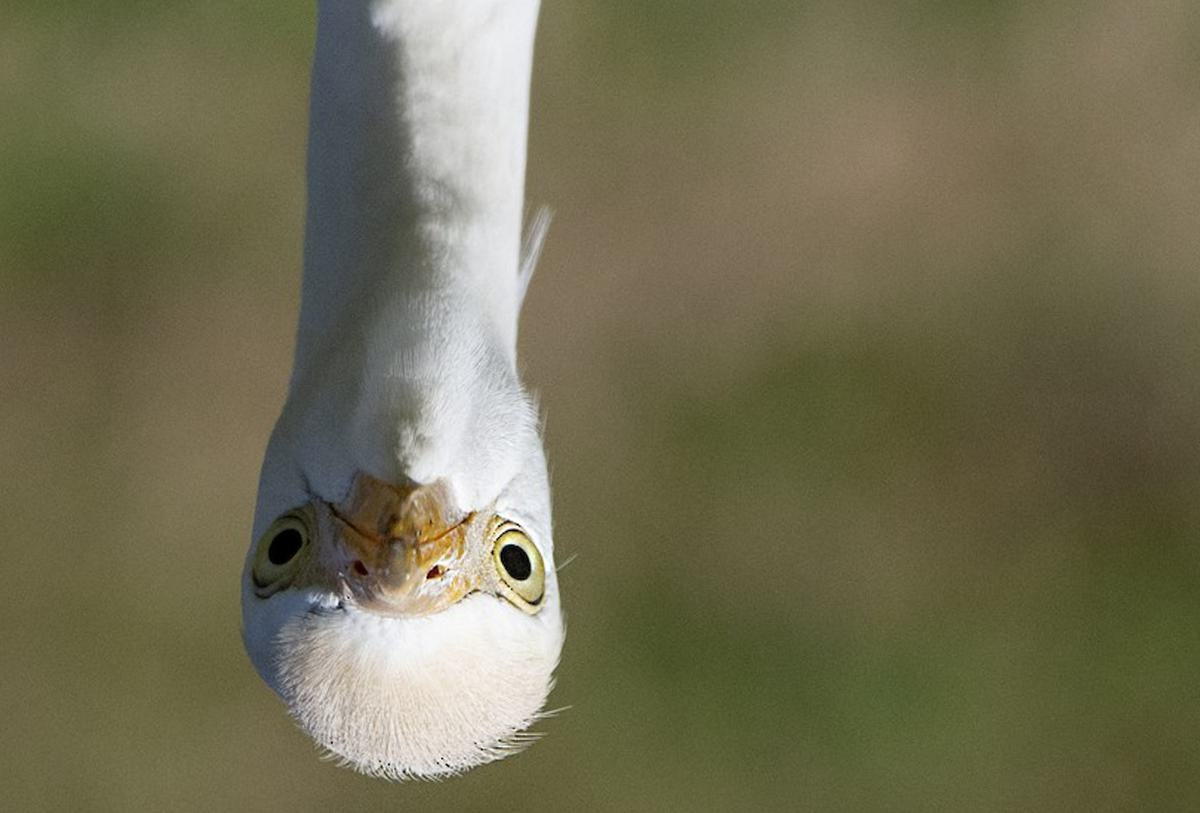egret: (227, 1, 602, 775)
